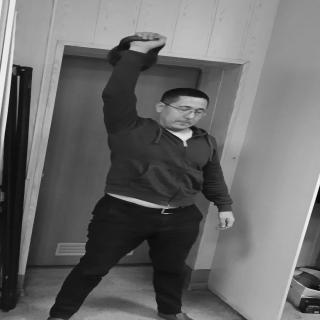girya: (107, 36, 169, 74)
